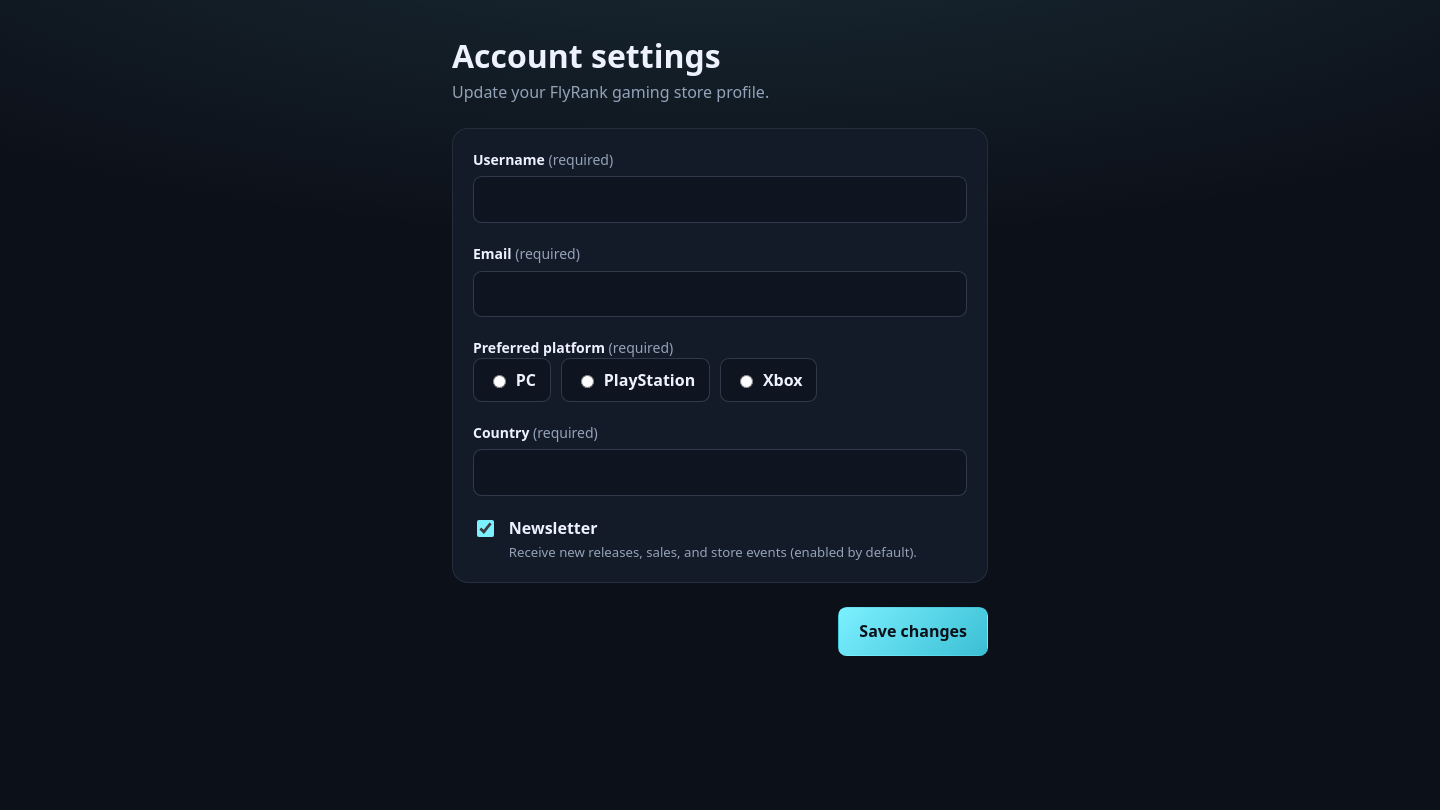
Scenario: AccountSettingsForm › shows required-field errors when empty
Click the button "Save changes" at x=913, y=632, box x1=838 y1=607 x2=988 y2=656
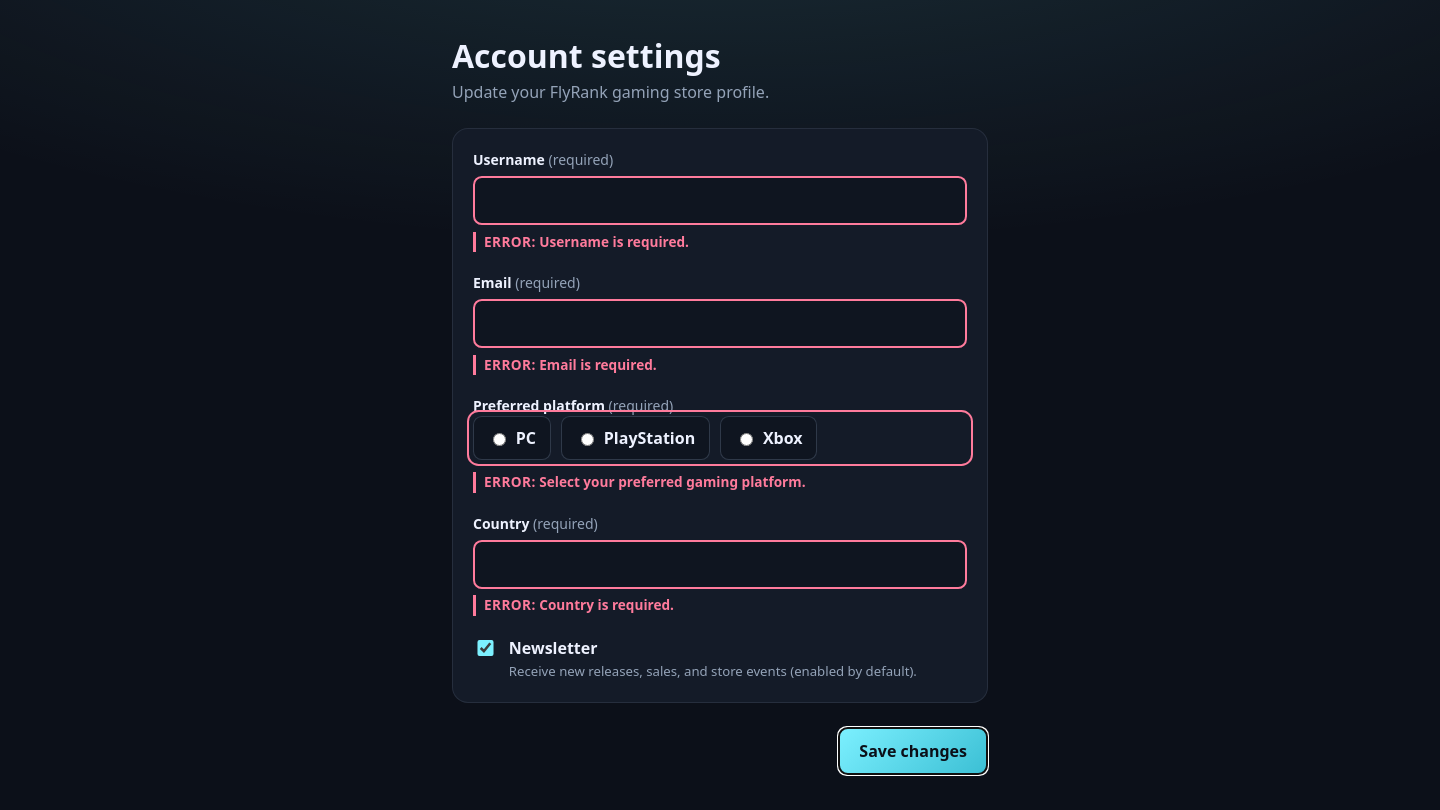
Expected: the text "Error: Username is required." is shown, x1=473 y1=232 x2=967 y2=252
Expected: the text "Error: Email is required." is shown, x1=473 y1=354 x2=967 y2=375
Expected: the text "Error: Select your preferred gaming platform." is shown, x1=473 y1=472 x2=967 y2=493
